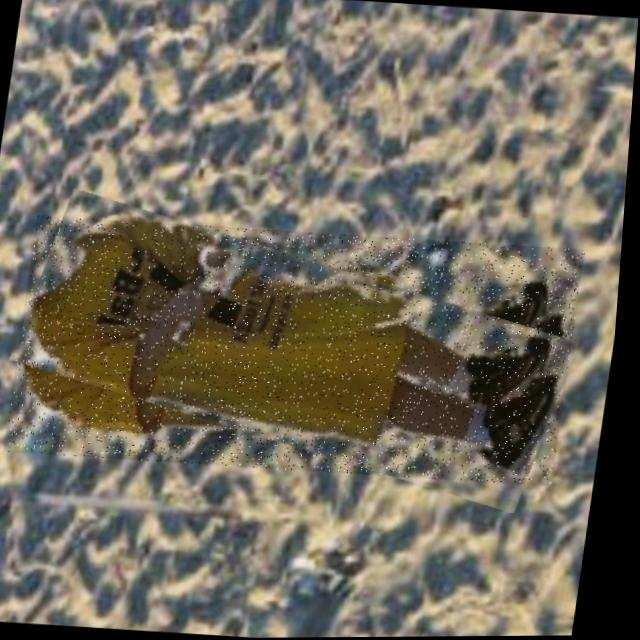Person in Rubble: (8, 210, 591, 489)
